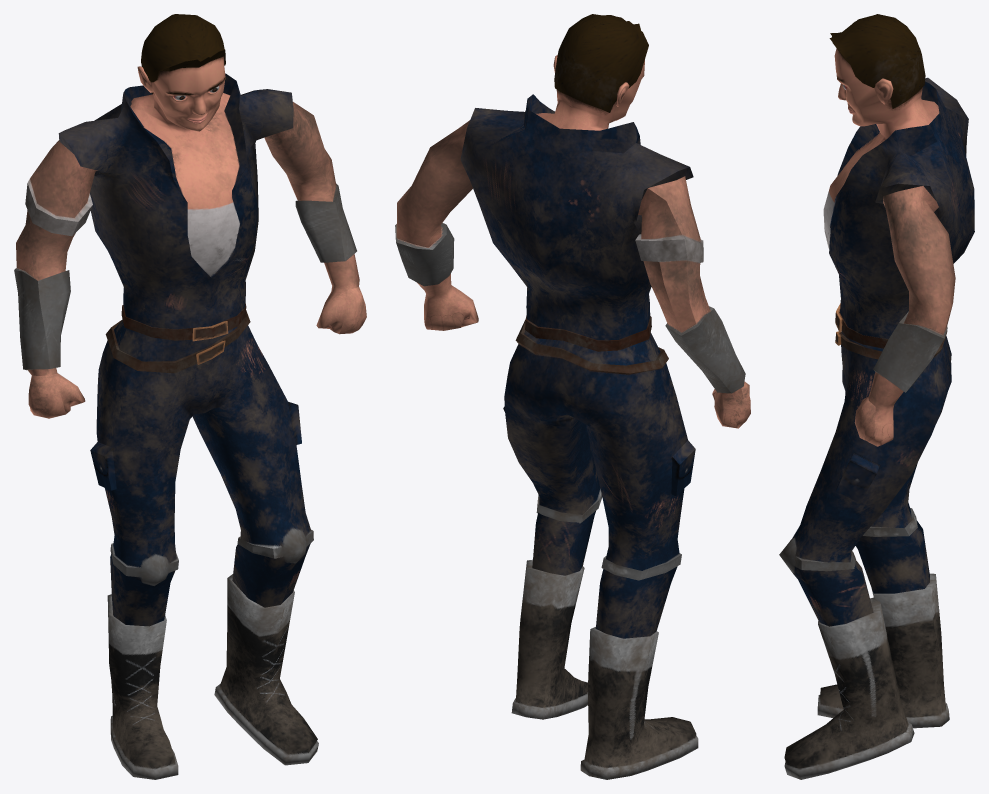
Rendered from Anim_coger_objeto_jugador.0018.obj.
3 views of the same model, side by side, from view 1: azimuth 30°, elevation 25°; view 2: azimuth 150°, elevation 25°; view 3: azimuth 270°, elevation 25° (orthographic).
Visible parts, largest first — view 1: polySurface1; view 2: polySurface1; view 3: polySurface1.
Boxes of the visible parts, x1,y1,x2,y2 form: polySurface1: (14,14,366,779); polySurface1: (395,14,750,779); polySurface1: (779,14,974,779).
Size of the model in its own units: 4.53 by 9.53 by 2.35.
